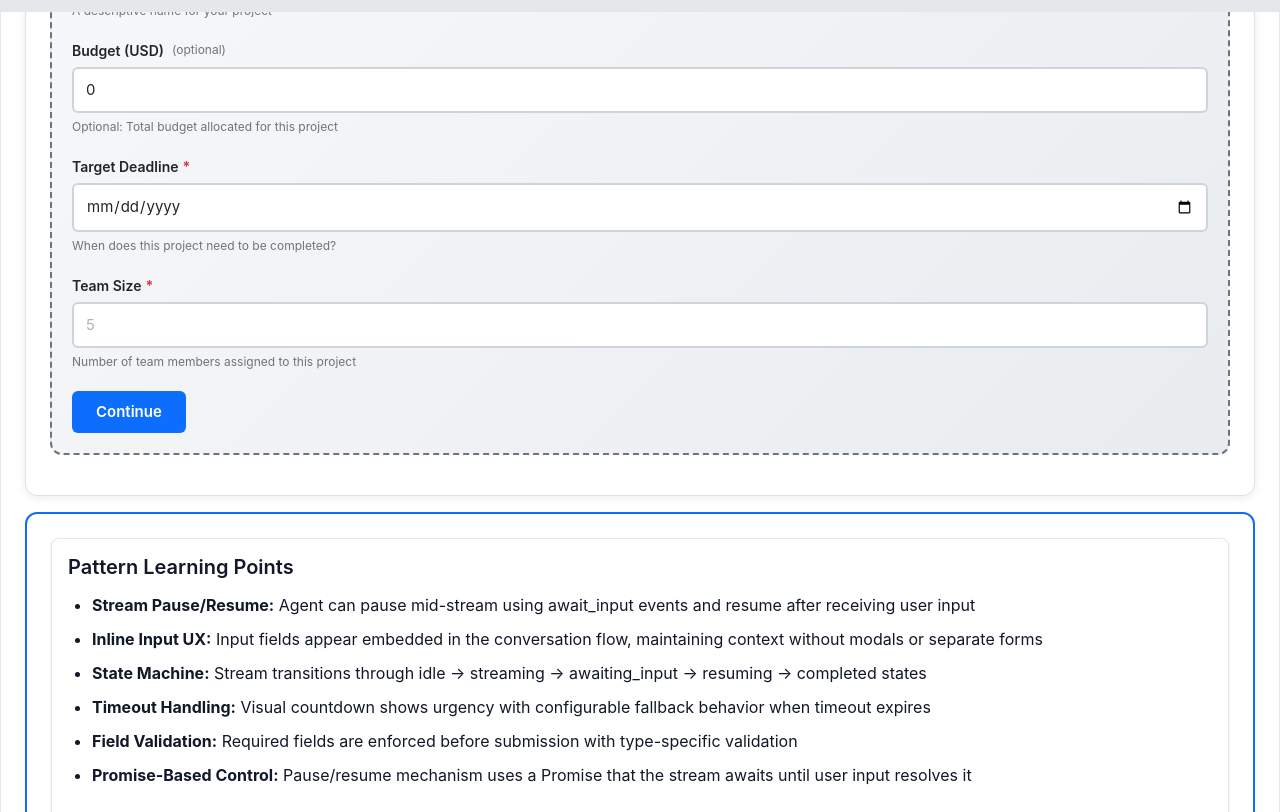
Test: AgentAwaitPromptDemo › should validate required fields before submission
(page scrolled)
# Try to submit without filling fields
Click the button "Continue" at {"x": 129, "y": 412}, box [72,391,186,433]
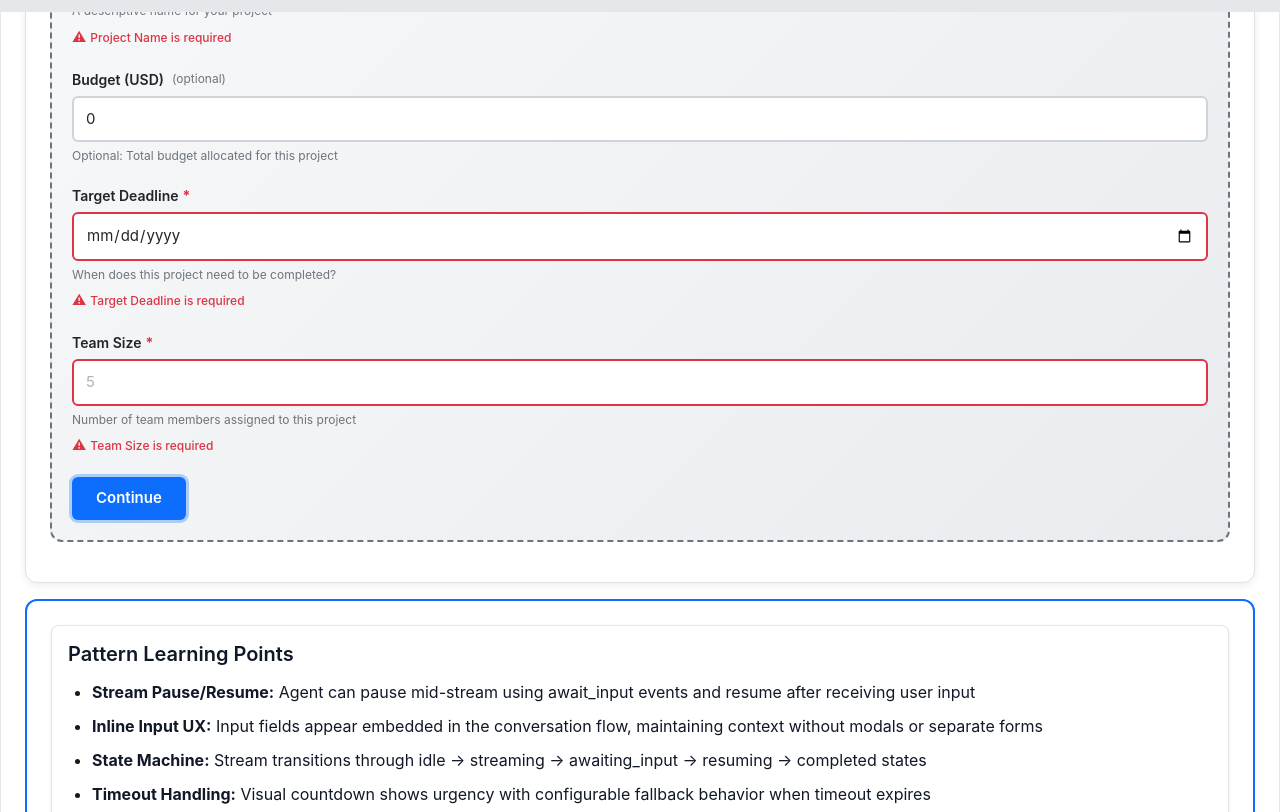
Check: the message "Project Name is required" is shown, box [90,30,232,45]
